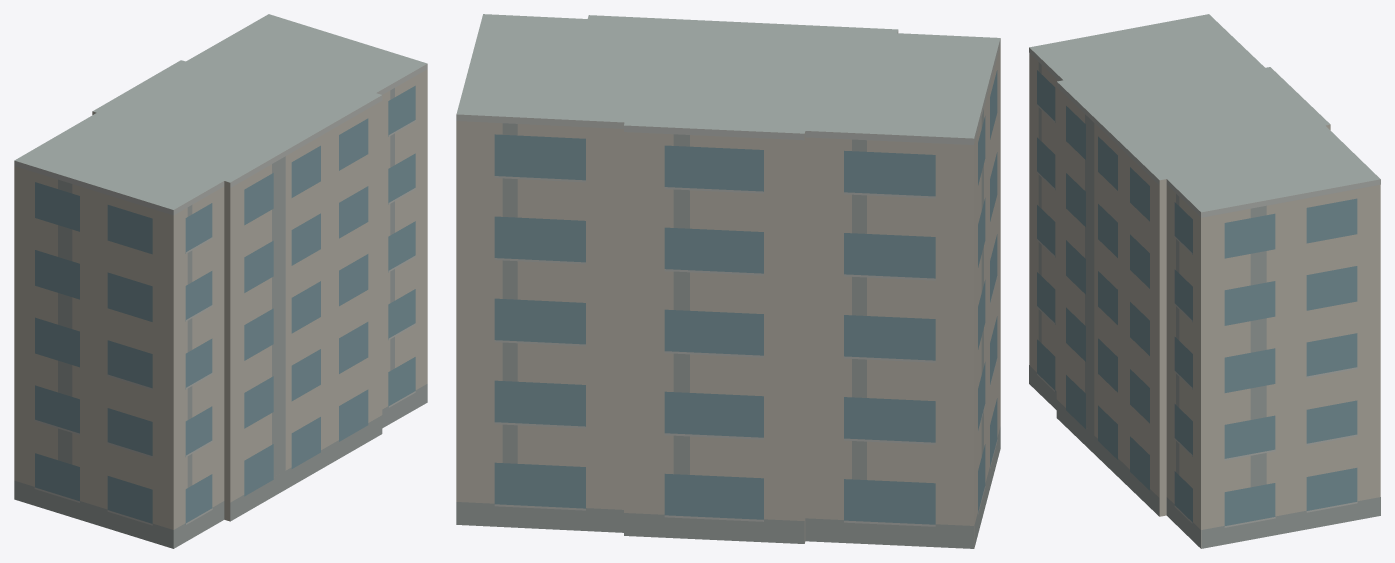
The model's file is survey-upis-32921931.glb.
3 views of the same model, side by side, from view 1: azimuth 30°, elevation 25°; view 2: azimuth 150°, elevation 25°; view 3: azimuth 270°, elevation 25° (orthographic). The views are drawn at different scales.
Visible parts, largest first — view 1: survey-upis-32921931.tmp; view 2: survey-upis-32921931.tmp; view 3: survey-upis-32921931.tmp.
Part boxes in pixels (x1=…): survey-upis-32921931.tmp: x1=14, y1=14, x2=427, y2=548; survey-upis-32921931.tmp: x1=456, y1=14, x2=1000, y2=548; survey-upis-32921931.tmp: x1=1029, y1=14, x2=1380, y2=548.
Bounding box in the file's own units: 19.29 × 15.25 × 14.45.
